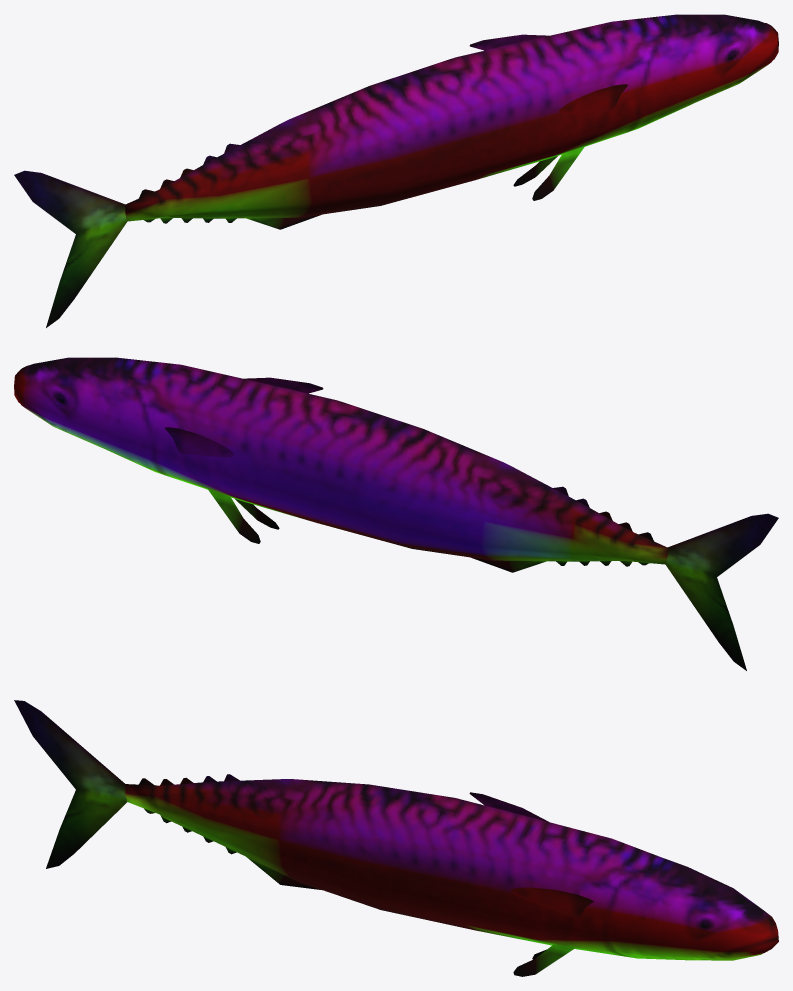
The model's file is atlantic_mackerel.glb.
The picture shows the model from 3 angles, top to bottom: view 1: azimuth 30°, elevation 25°; view 2: azimuth 150°, elevation 25°; view 3: azimuth 330°, elevation 25°; orthographic projection.
Visible parts, largest first — view 1: AtlanticMackerel; view 2: AtlanticMackerel; view 3: AtlanticMackerel.
Part boxes in pixels (x1=…): AtlanticMackerel: x1=14, y1=14, x2=778, y2=327; AtlanticMackerel: x1=14, y1=357, x2=778, y2=670; AtlanticMackerel: x1=14, y1=700, x2=778, y2=976.
Bounding box in the file's own units: 1 × 0.2268 × 0.1093.
Materials: 1 (1 with a texture image).
